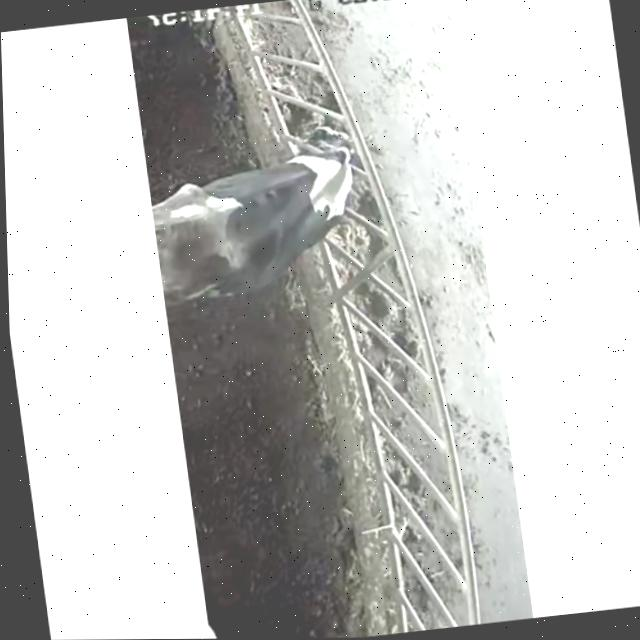eat: (244, 96, 426, 259)
